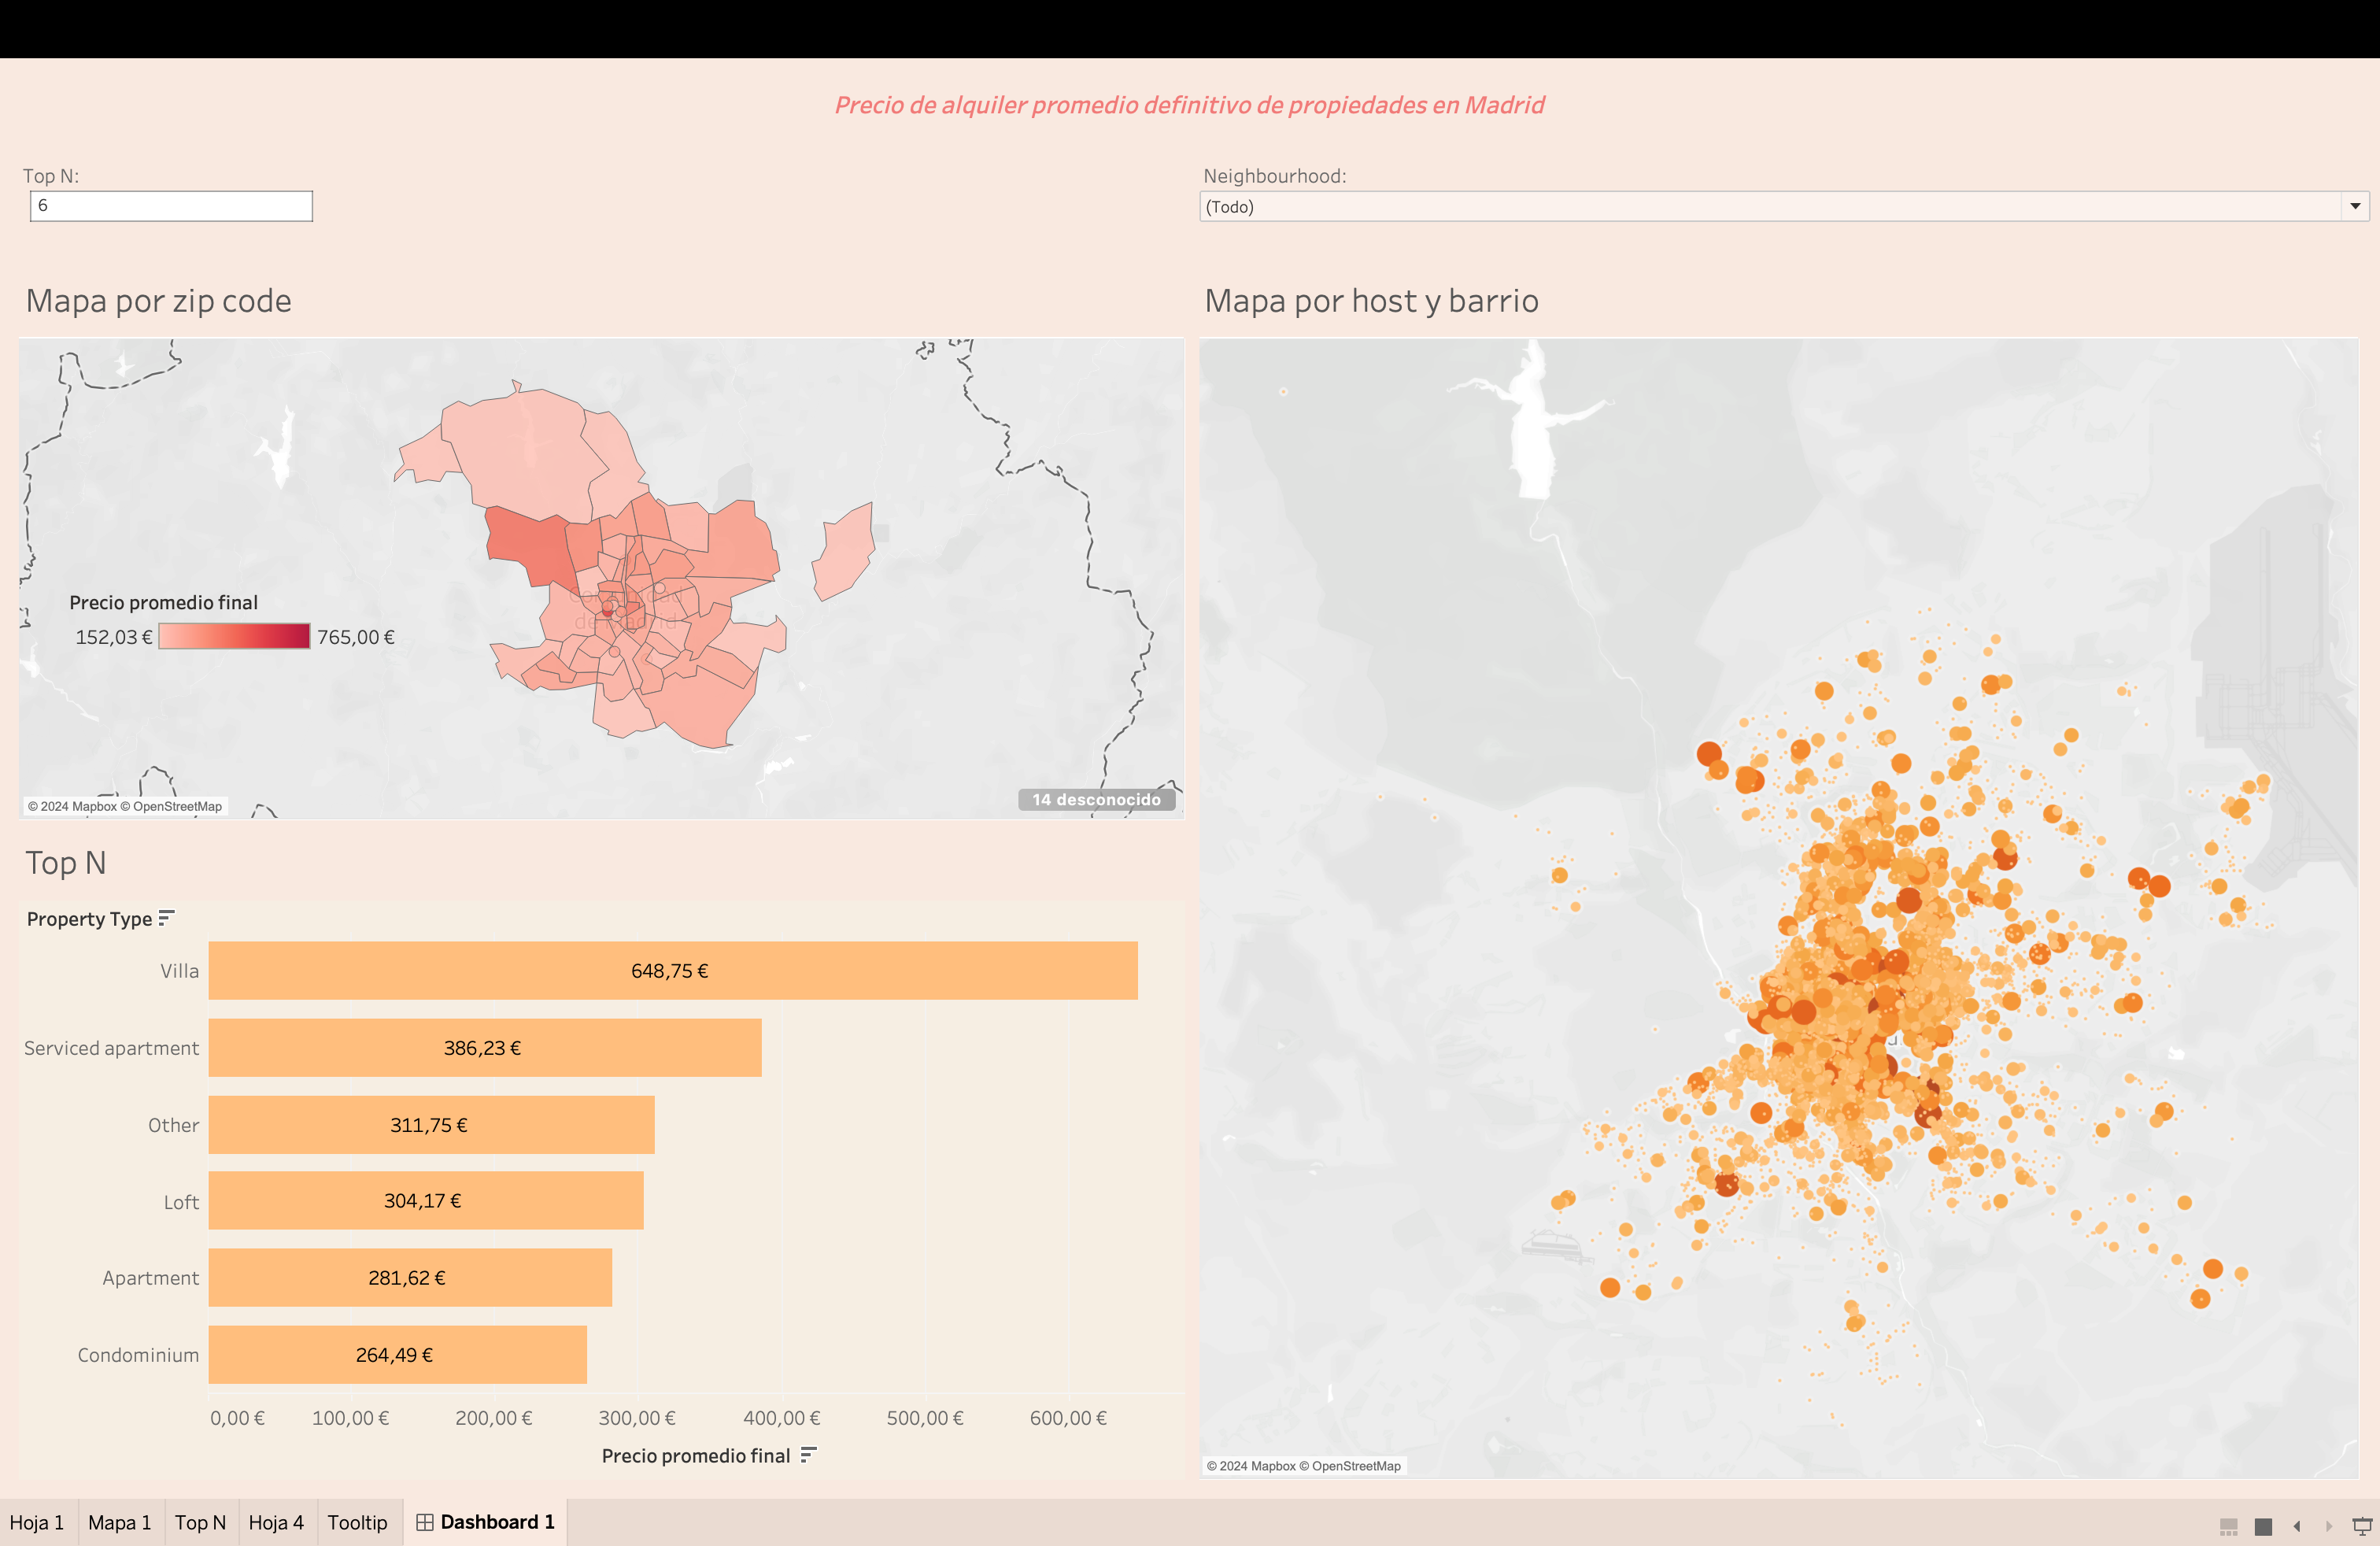

The page's visual inventory and layout, read from the dashboard file:
{"tool":"tableau","page":{"name":"Dashboard 1","canvas":[1000,1000],"units":"permille","ordinal":0},"visuals":[{"type":"text","box":[6.2,9.7,987.7,47.3]},{"type":"text","box":[6.2,57.1,495,87.4]},{"type":"text","box":[501.1,57.1,492.7,87.4]},{"type":"parameter","param":"[Parameters].[Parámetro 1]","box":[10.8,69.2,123,53.4]},{"type":"filter","title":"Hoja 4","param":"[federated.13bn87m0w4oa491fzkcb51qtqevb].[none:Neighbourhood:nk]","box":[501.9,69.2,495.8,63.1]},{"type":"worksheet","title":"Mapa 1","mark":"Multipolygon","rows":["Calculation_6503479342944366592"],"cols":["Calculation_6503479342944522241"],"box":[6.2,144.4,494.8,389.4]},{"type":"worksheet","title":"Hoja 4","mark":"Automatic","rows":["Calculation_6503479342944366592"],"cols":["Calculation_6503479342944522241"],"box":[501,144.4,492.9,845.9]},{"type":"legend","title":"Mapa 1","param":"[federated.13bn87m0w4oa491fzkcb51qtqevb].[usr:Calculation_6503479343266123780:qk","box":[29,368.8,140,95]},{"type":"worksheet","title":"Top N","mark":"Automatic","rows":["Property Type"],"cols":["Calculation_6503479343266123780"],"box":[6.2,533.8,494.8,456.5]}]}

Visuals, with their boxes on the dashboard's canvas, which has no fixed pixel size, in thousandths of its width and height (x1, y1, x2, y2). These are canvas units, not pixel positions in the 2380x1546 screenshot, which may show the page scaled, cropped or inside an application window:
text: x1=6 y1=10 x2=994 y2=57
text: x1=6 y1=57 x2=501 y2=144
text: x1=501 y1=57 x2=994 y2=144
parameter: x1=11 y1=69 x2=134 y2=123
"Hoja 4" filter: x1=502 y1=69 x2=998 y2=132
"Mapa 1" worksheet (Multipolygon marks): x1=6 y1=144 x2=501 y2=534
"Hoja 4" worksheet: x1=501 y1=144 x2=994 y2=990
"Mapa 1" legend: x1=29 y1=369 x2=169 y2=464
"Top N" worksheet: x1=6 y1=534 x2=501 y2=990
